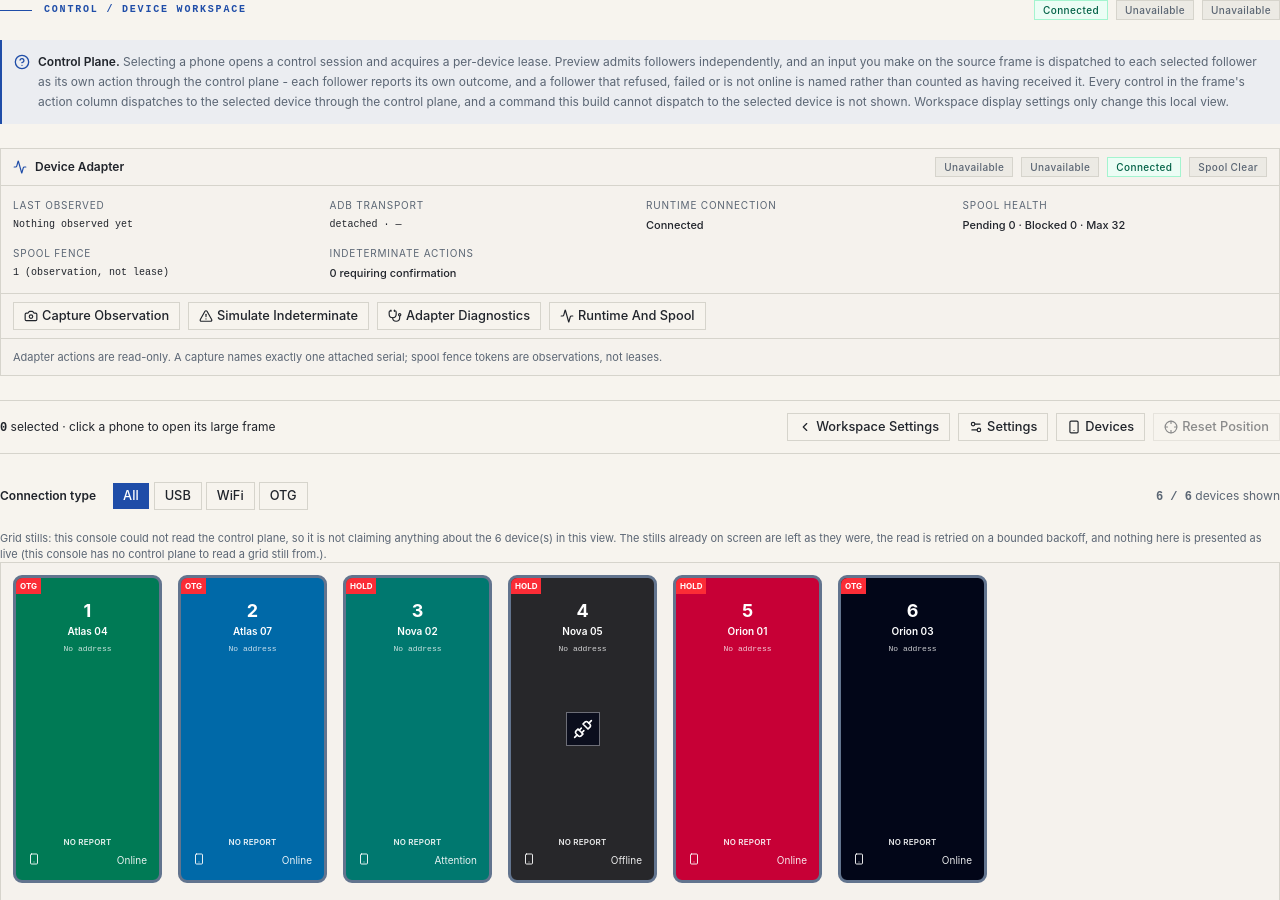
Scenario: ControlPage OTG Setup tab › does not render the adb restart without an observed endpoint to re-establish
What coordinates should you click on to do the following:
click the button with aria-label "Open Workspace Settings"
I would click on:
 (869, 427)
Its box is [787, 413, 950, 441].
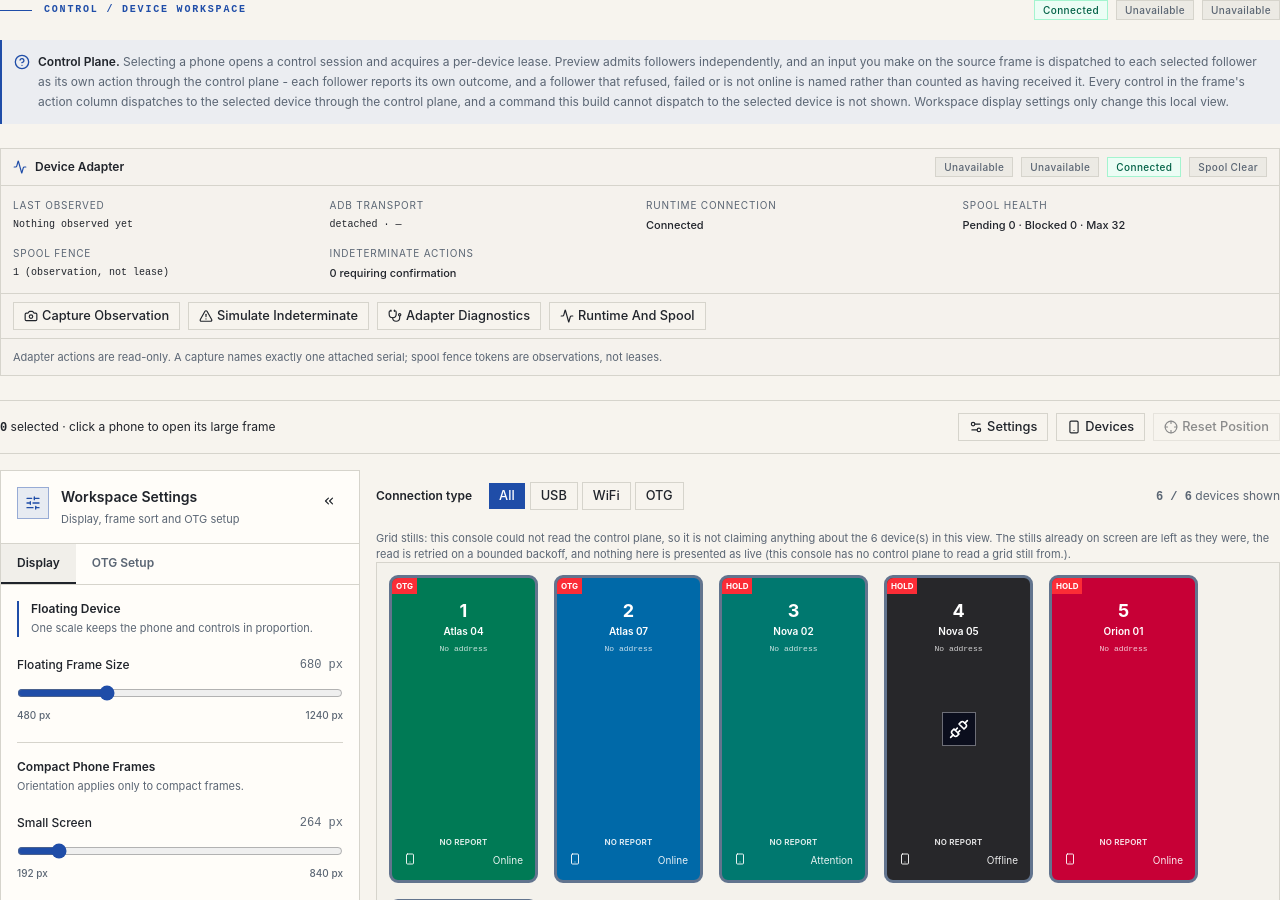
What coordinates should you click on to do the following:
click the tab "OTG Setup"
I would click on:
 (123, 564)
Its box is [76, 544, 170, 584].
(page scrolled)
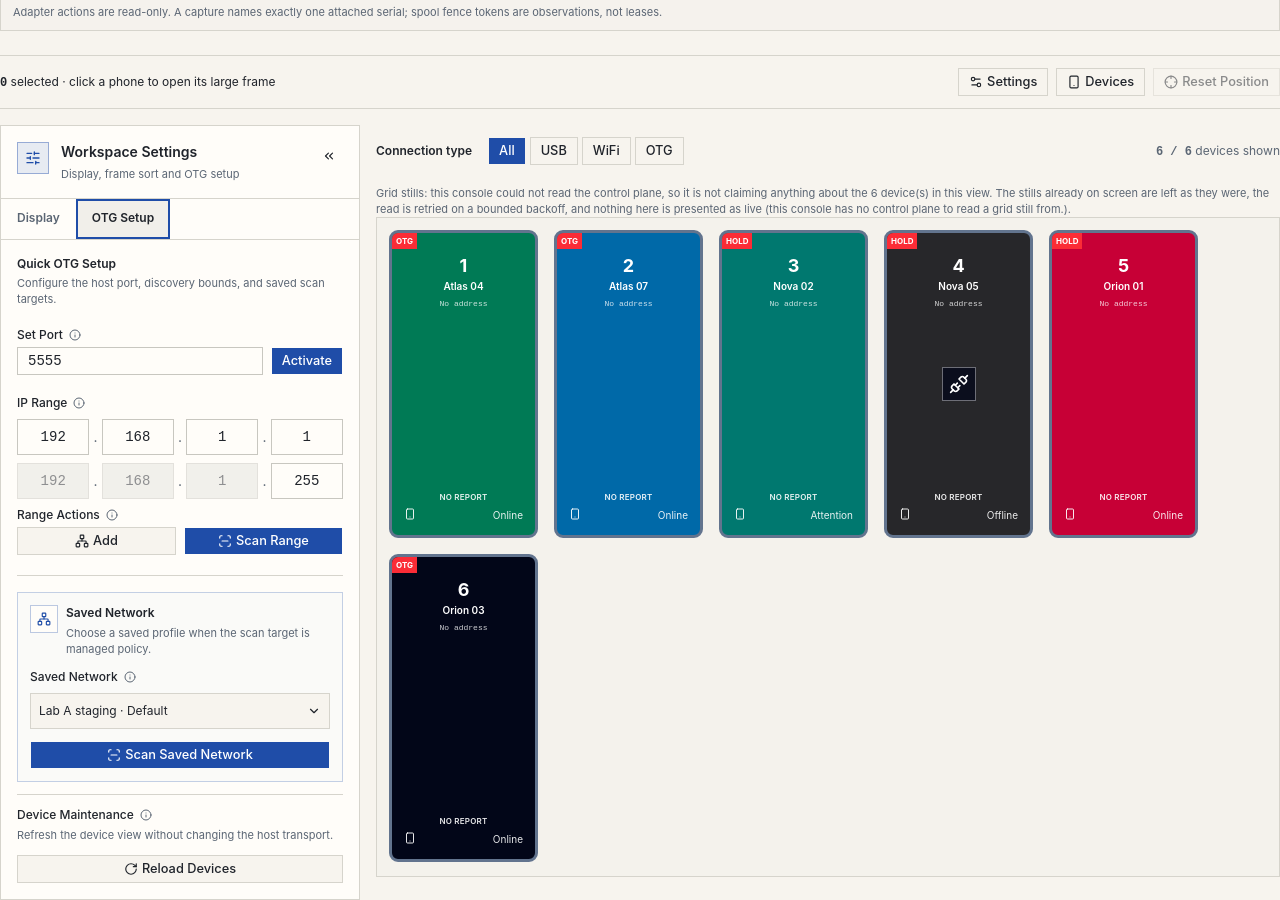
Expected: the button "Scan Saved Network" is shown, [30, 741, 330, 769]
